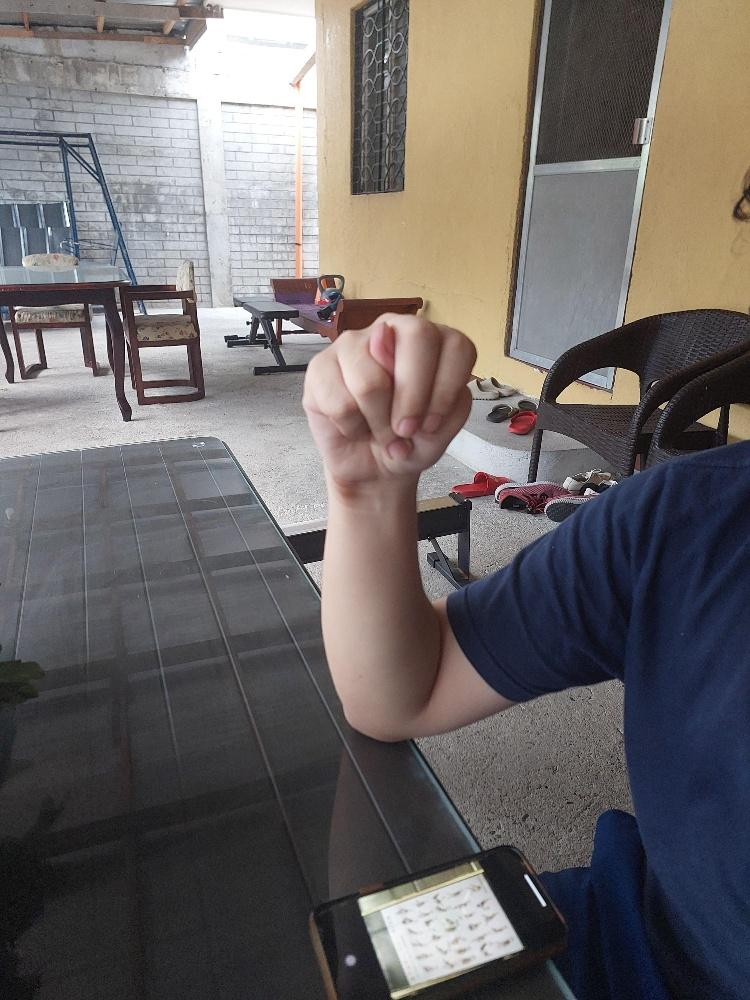n: (298, 308, 481, 494)
